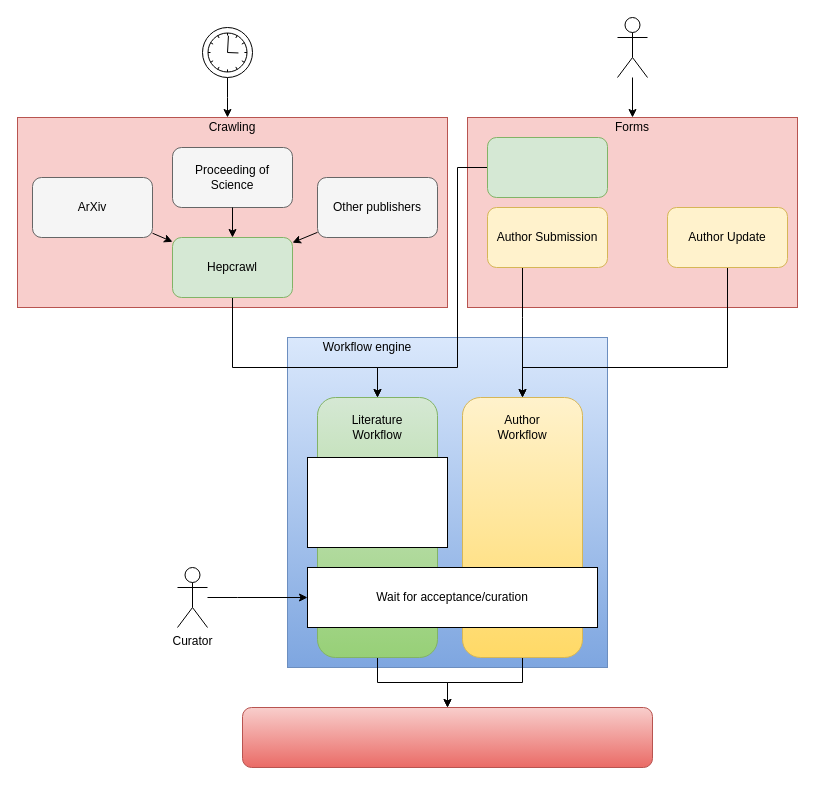
This 815x785 diagram has some shape labels left out. Here are the shapes that lost their labels. From the top down, the box of each, then its label:
(202, 26, 252, 78): CeleryBeat (periodic executor)
(616, 16, 648, 78): User
(486, 136, 608, 198): Literature Submission
(306, 456, 448, 548): Enhance Guess keywords Guess coreness Extract references ...
(242, 706, 652, 768): Inspire
